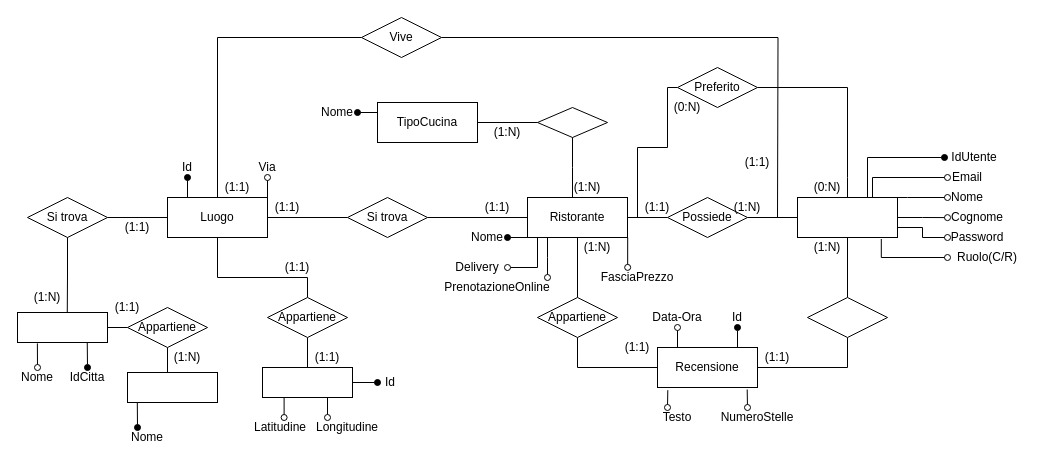
The diagram is 1045 pixels wide and 465 high, and some of its shapes have lost their labels. The shapes that lost their labels are listed below. From the top down, each one's centre as x and y in pixels, then its label:
the point at 572,122: Offre
the point at 847,217: Utente
the point at 62,327: Città
the point at 847,317: Scrive
the point at 172,387: Nazione
the point at 307,382: Coordinate
